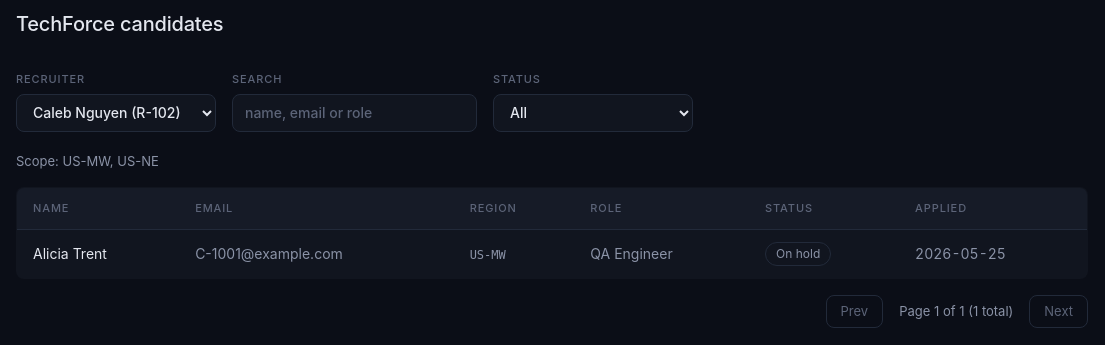
recruiter view › switching recruiter changes the header and the data
Check: the text "Alicia Trent" is shown, box [16, 229, 179, 278]
Select "Marisol Vega (R-103)" in the dropdown labelled "Recruiter" at (116, 112), box [16, 94, 216, 132]
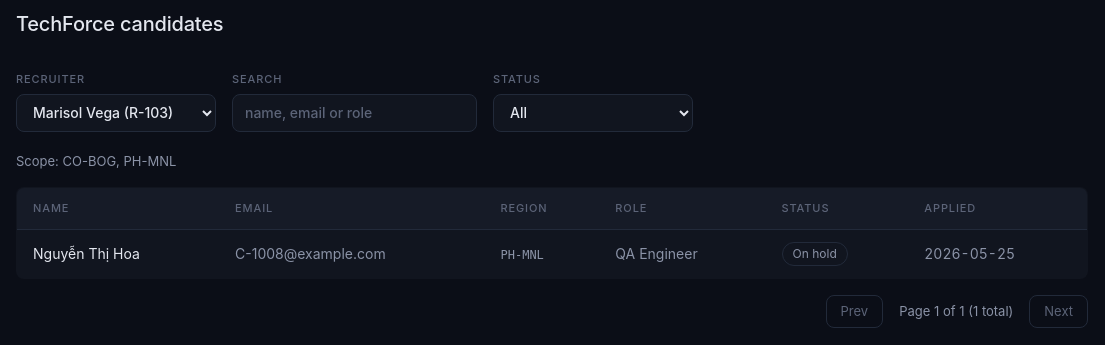
Check: the text "Nguyễn Thị Hoa" is shown, box [16, 229, 219, 278]
Check: the text "Alicia Trent" is gone
